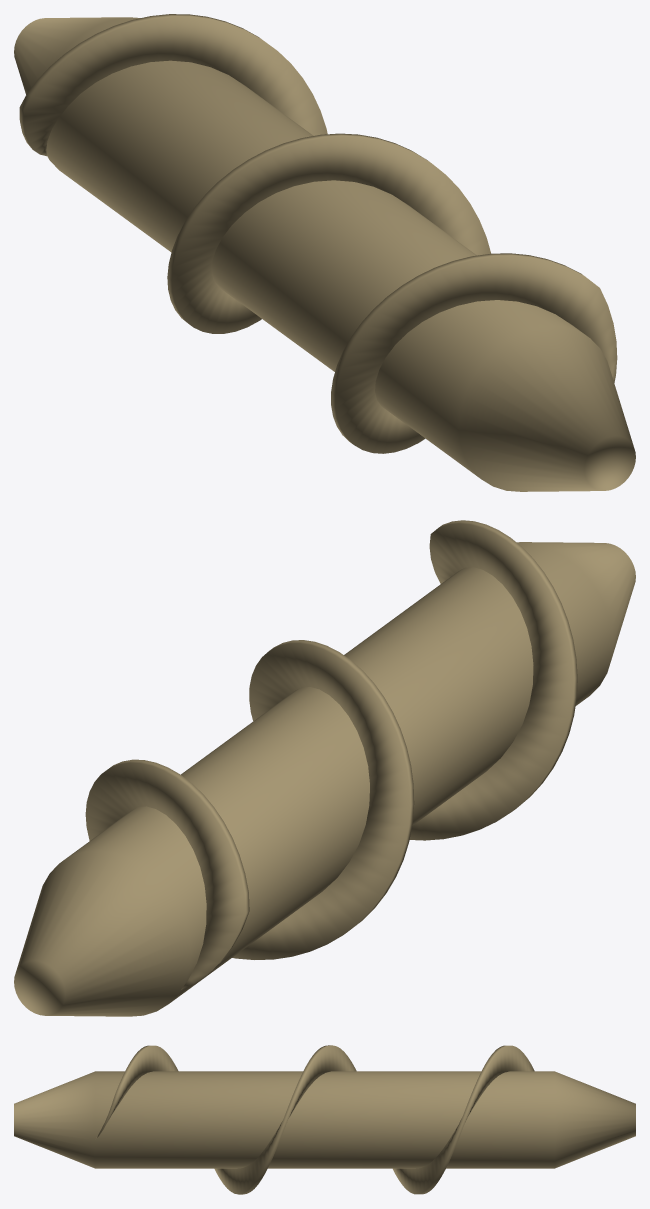
The model's file is screw_drum_shallow.glb.
3 views of the same model, one above another, from view 1: azimuth 30°, elevation 25°; view 2: azimuth 150°, elevation 25°; view 3: azimuth 270°, elevation 25° (orthographic). The views are drawn at different scales.
Parts seen in each view (by area): view 1: screw_drum_shallow; view 2: screw_drum_shallow; view 3: screw_drum_shallow.
Part boxes in pixels (left/top/right/bottom): screw_drum_shallow: left=14, top=14, right=635, bottom=491; screw_drum_shallow: left=14, top=520, right=635, bottom=1016; screw_drum_shallow: left=14, top=1045, right=635, bottom=1194.
Bounding box in the file's own units: 0.4598 × 0.4598 × 1.92.
